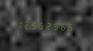five: (31, 19, 37, 30), (52, 20, 58, 31)
one: (17, 18, 23, 29)
six: (38, 19, 44, 30), (59, 20, 65, 31), (66, 21, 72, 32)
two: (24, 18, 30, 30), (45, 19, 51, 31)
